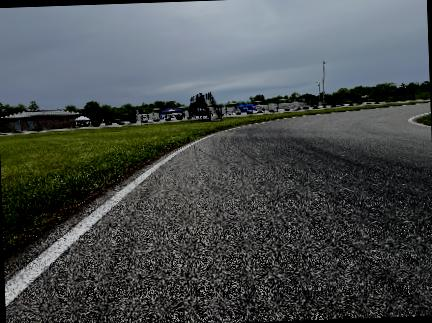Grass: (0, 105, 389, 257), (418, 114, 430, 125)
Lane: (6, 104, 431, 322)
